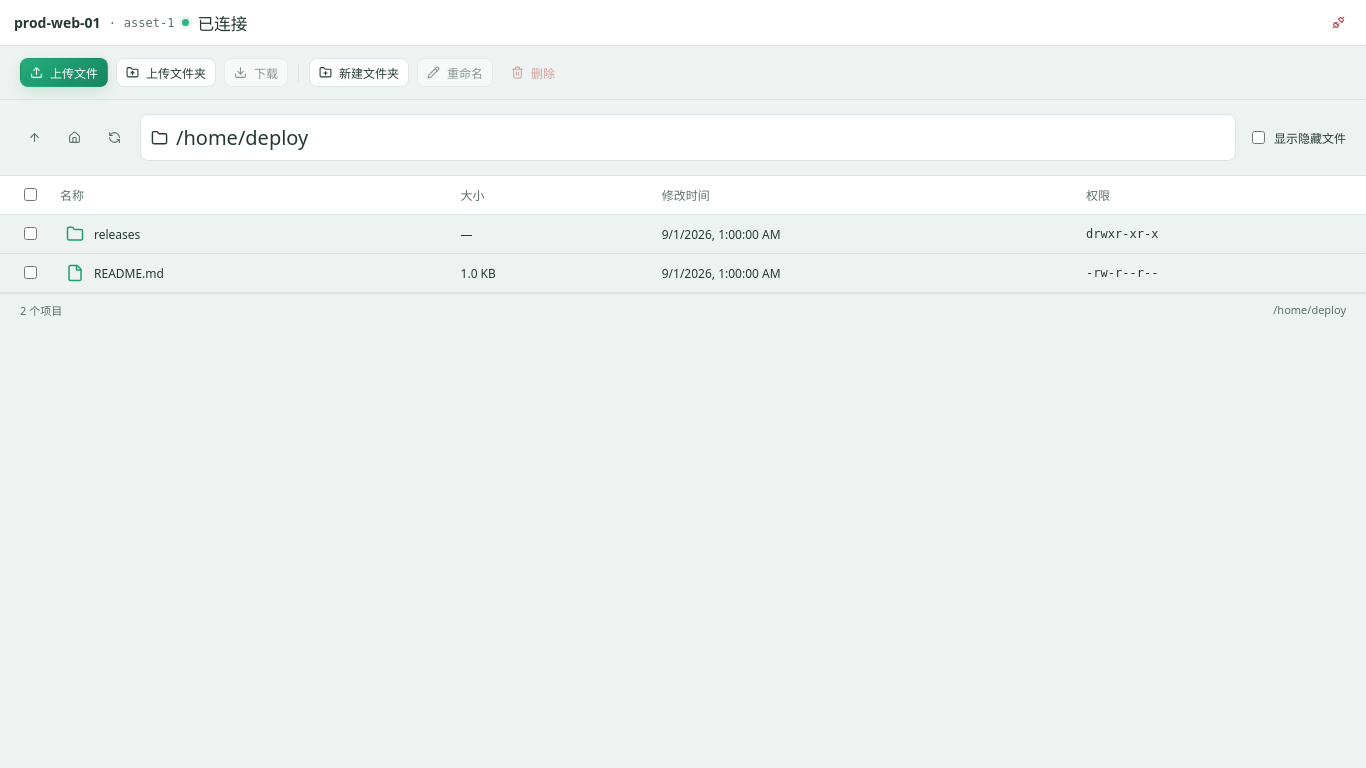
在当前目录新建文件夹，服务器失败保留输入并提示原因
Expected: the text "README.md" is shown, [94,264,164,282]
Click the button "新建文件夹" at (359, 72), box [309,58,409,87]
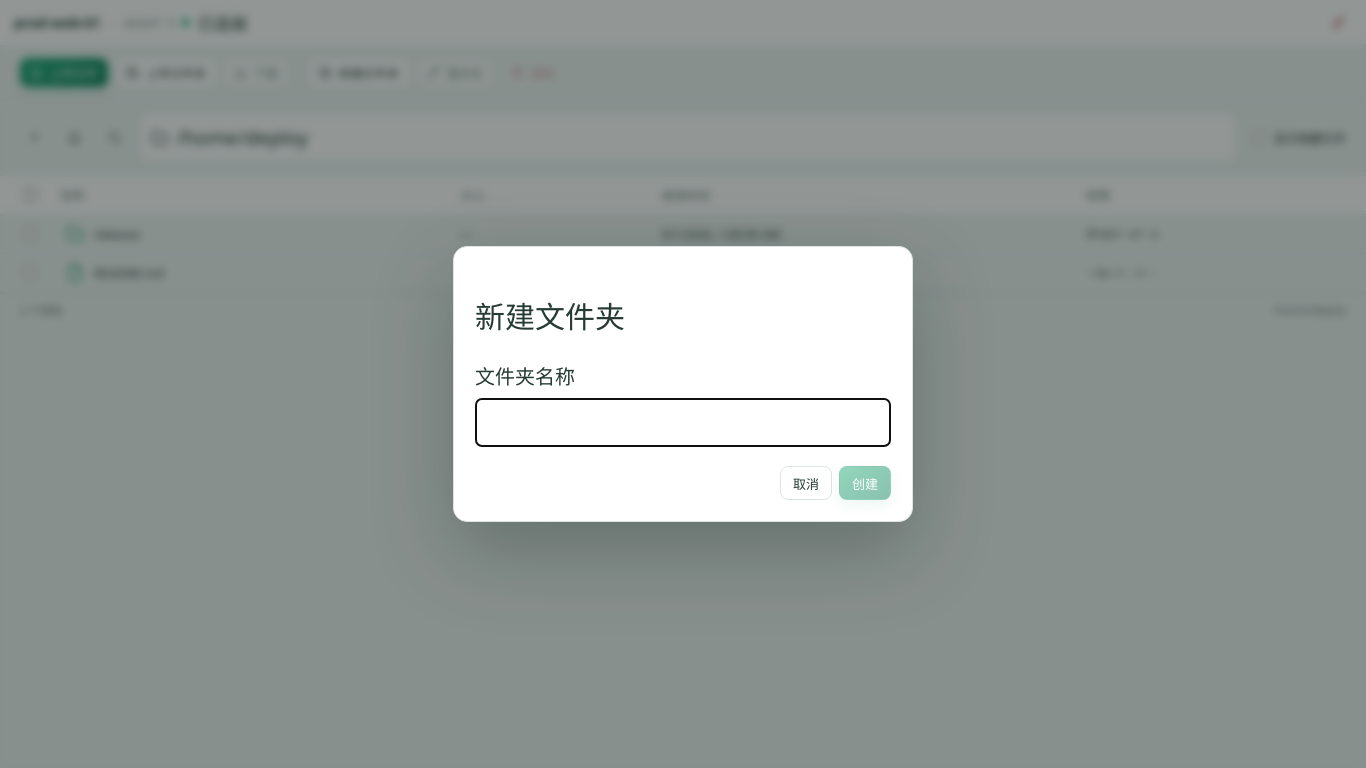
Type "logs" into the field labelled "文件夹名称" at (683, 423), box [475,398,891,447]
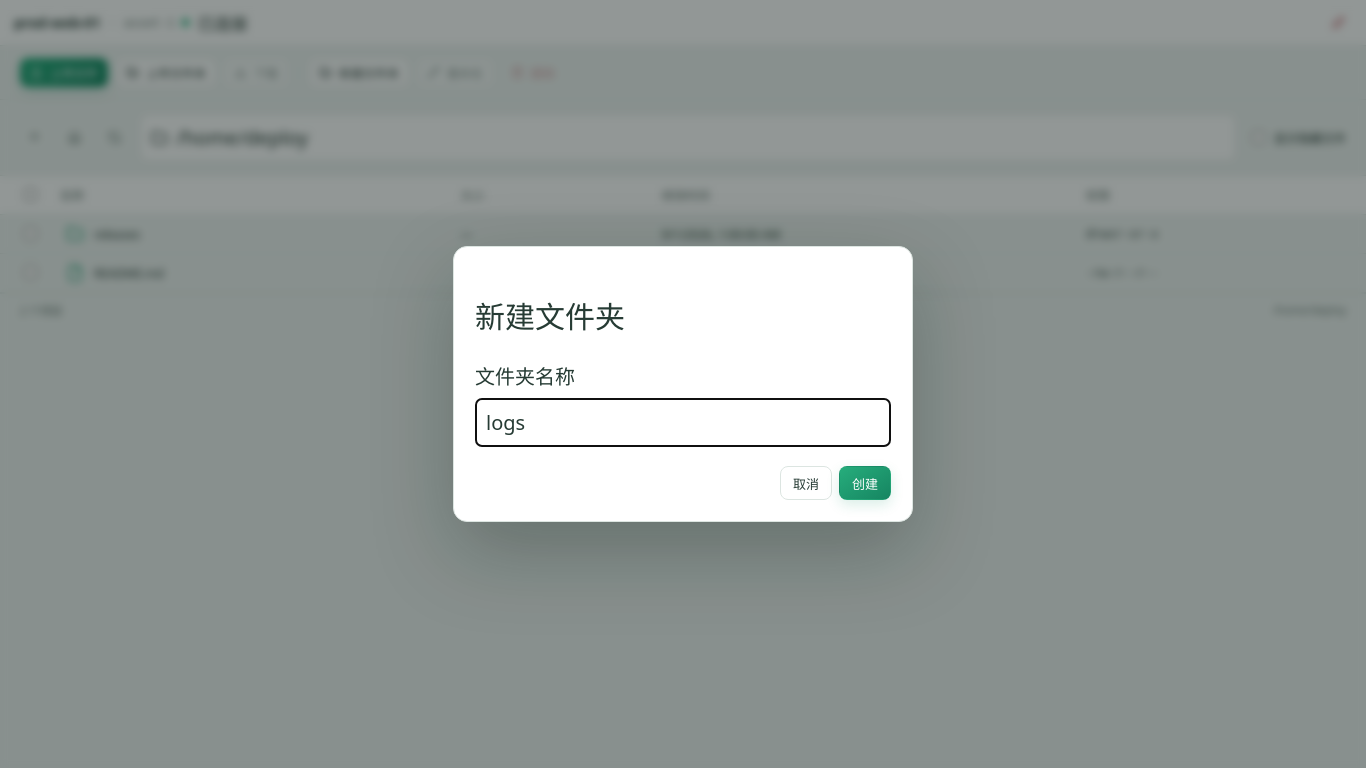
Click the button "创建" at (865, 483), box [839,466,891,500]
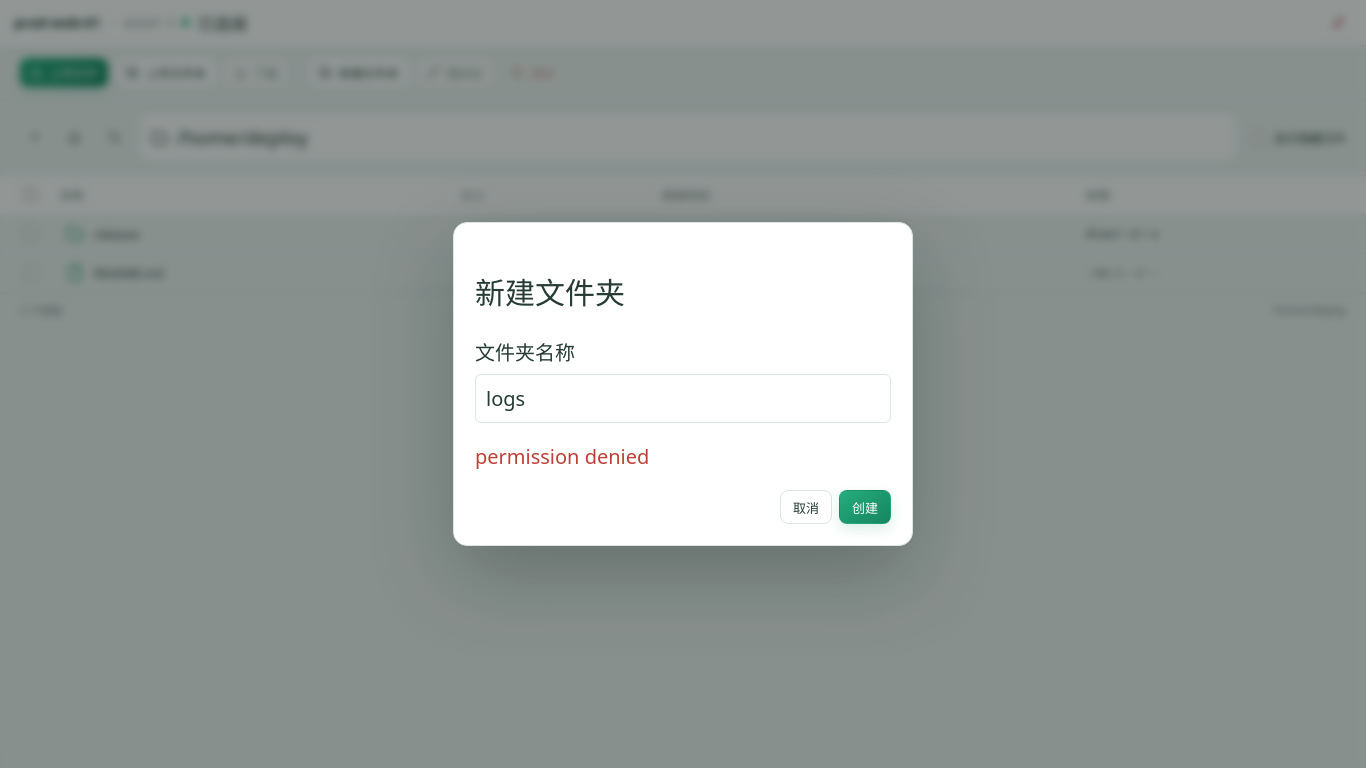
Result: the message reads "permission denied" at [475,443,649,470]
Click the button "创建" at (865, 507), box [839,490,891,524]
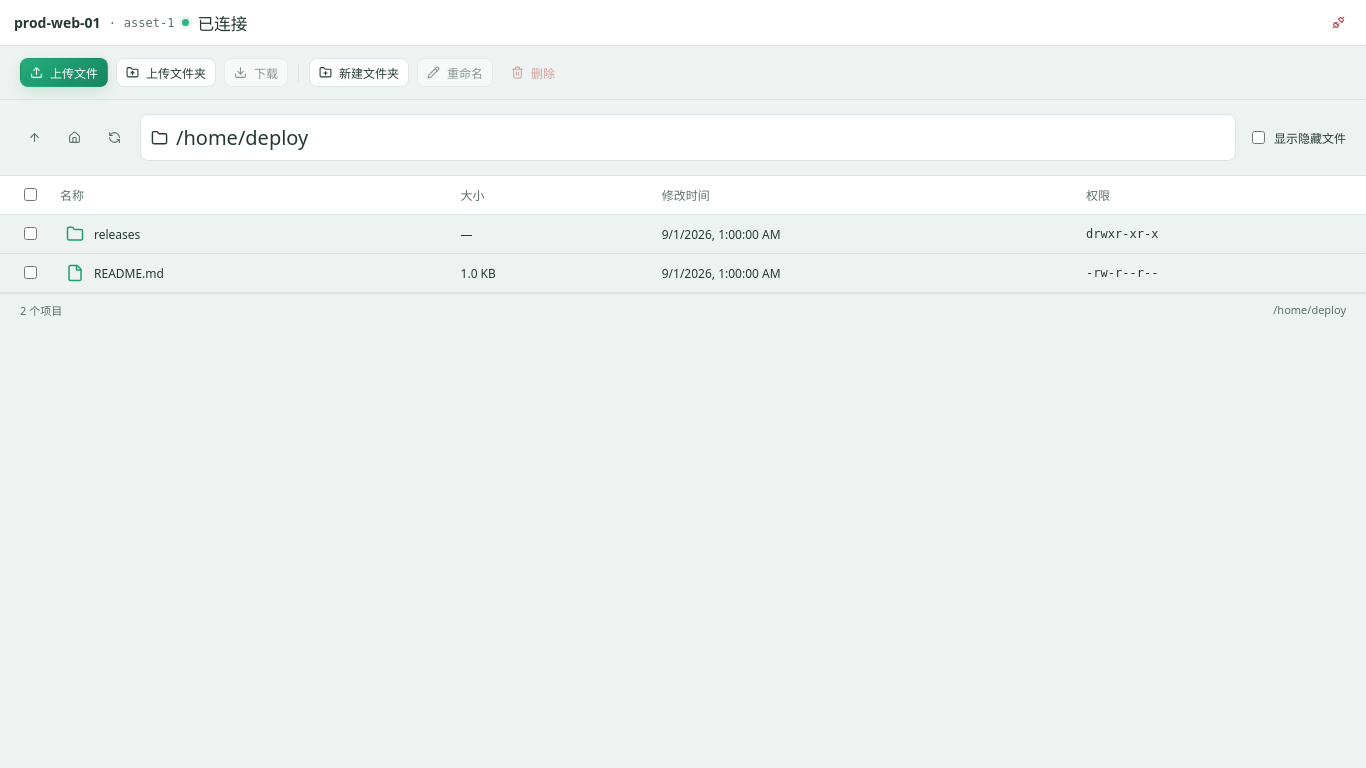
Result: the dialog is gone
